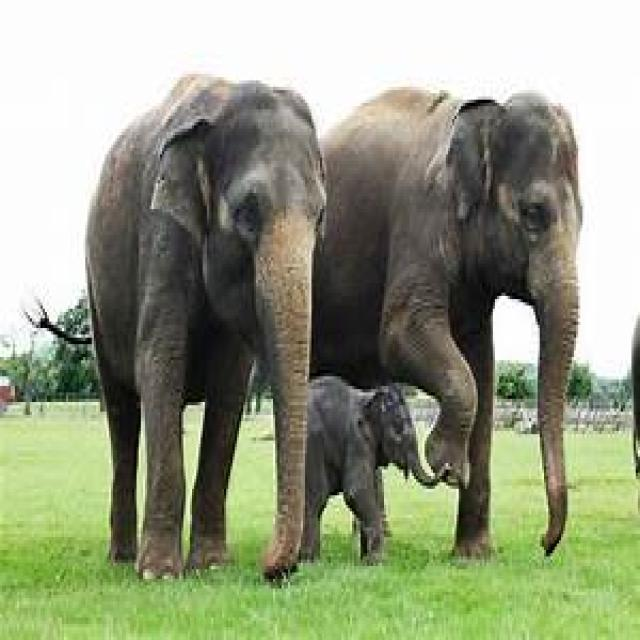elephant: (309, 87, 582, 563), (85, 74, 329, 585), (303, 376, 439, 569)
